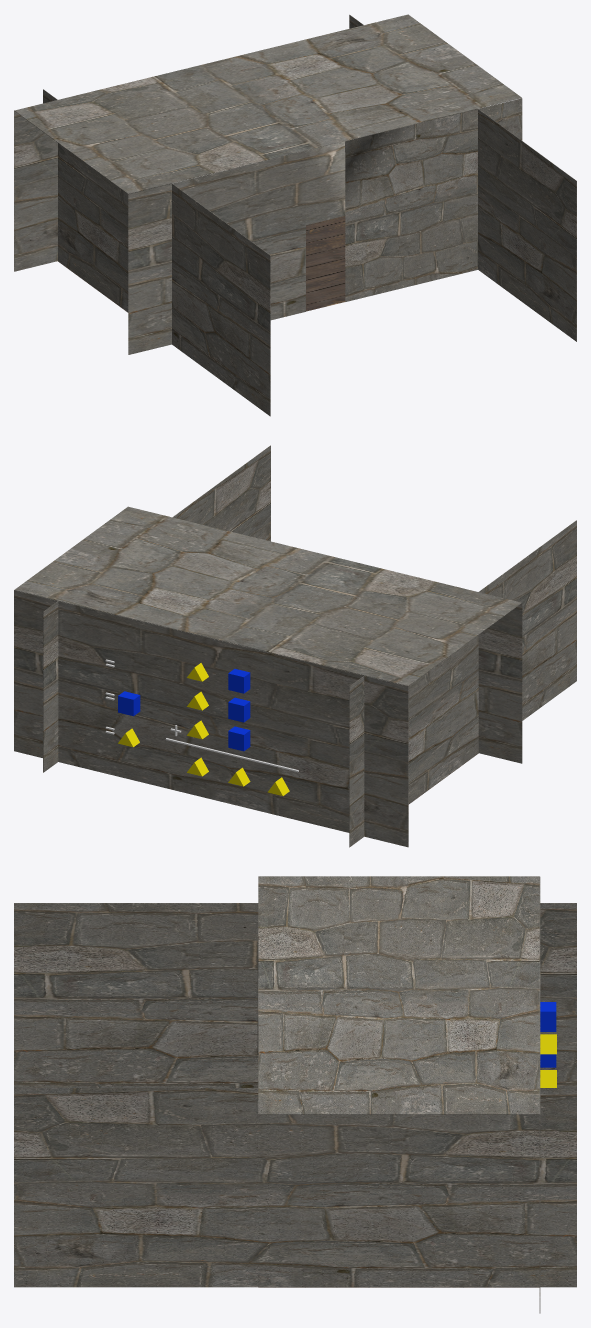
The model's file is stanzaLogica.fbx.
3 renders of one model, top to bottom at view 1: azimuth 30°, elevation 25°; view 2: azimuth 150°, elevation 25°; view 3: azimuth 270°, elevation 25°, orthographic. The views are drawn at different scales.
Parts seen in each view (by area): view 1: Tetto ufficio, object_184.002, mura.001, mura.004, object_184.001, mura, pavimento, mura.005; view 2: mura, Tetto ufficio, object_184.002, object_184.001, mura.004, Cube; view 3: object_184.001, Tetto ufficio, object_184.002, Cube, mura.
Part boxes in pixels (x1,y1,x2,y2): Tetto ufficio: (14,14,521,193); object_184.002: (43,89,270,416); mura.001: (345,98,522,301); mura.004: (128,151,305,354); object_184.001: (349,14,576,341); mura: (14,111,57,271); pavimento: (58,216,345,312); mura.005: (227,122,423,225); mura: (14,590,408,847); Tetto ufficio: (14,506,521,686); object_184.002: (349,520,576,847); object_184.001: (43,445,270,772); mura.004: (478,603,522,763); Cube: (105,659,298,795); object_184.001: (14,1088,576,1287); Tetto ufficio: (258,876,539,1114); object_184.002: (14,903,576,1087); Cube: (540,1002,556,1087); mura: (539,877,540,1313).
Bounding box in the file's own units: 1002 × 391 × 1000.
